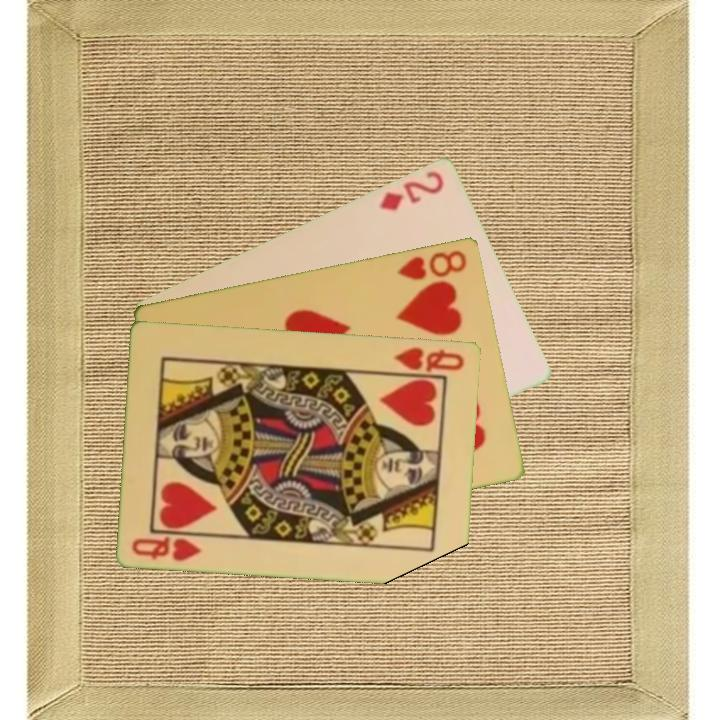2d: (375, 166, 447, 214)
8h: (393, 246, 470, 283)
Qh: (391, 343, 468, 374), (129, 533, 205, 564)
